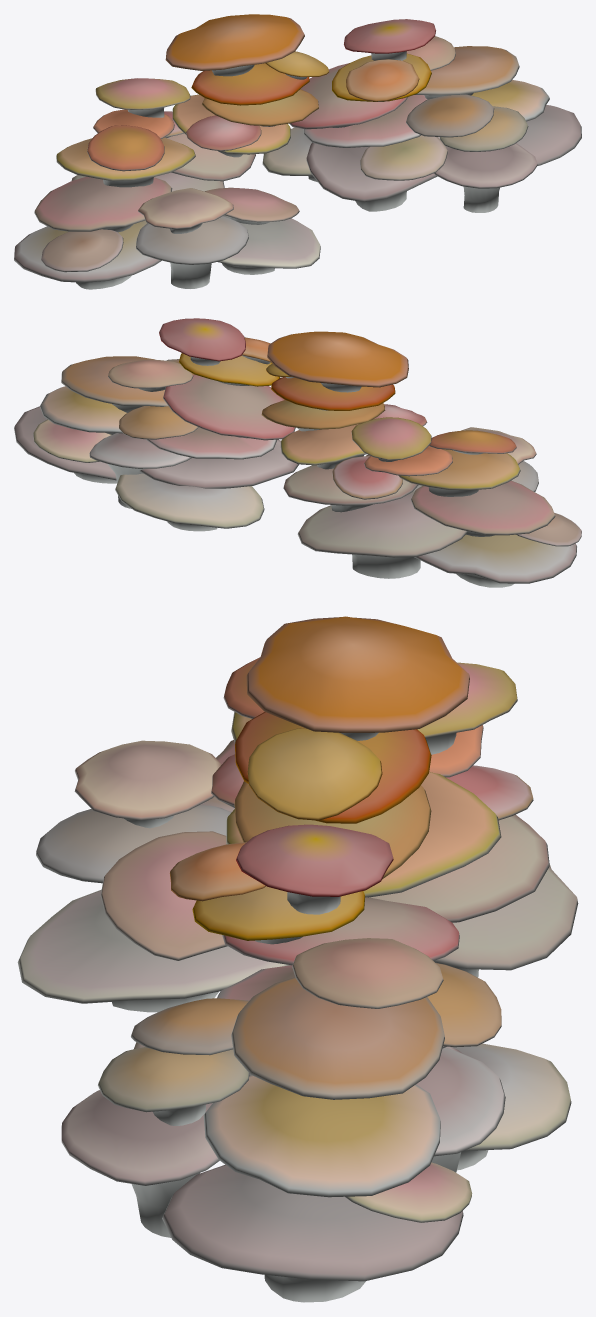
3 renders of one model, top to bottom at view 1: azimuth 30°, elevation 25°; view 2: azimuth 150°, elevation 25°; view 3: azimuth 270°, elevation 25°, orthographic. The views are drawn at different scales.
Parts seen in each view (by area): view 1: G:\FFXIV-MapTools\exports\e3f1\bg\ex2\02_est_e3\fld\e3f1\bgp (×4); view 2: G:\FFXIV-MapTools\exports\e3f1\bg\ex2\02_est_e3\fld\e3f1\bgp (×4); view 3: G:\FFXIV-MapTools\exports\e3f1\bg\ex2\02_est_e3\fld\e3f1\bgp (×4).
Part boxes in pixels (x1=…): G:\FFXIV-MapTools\exports\e3f1\bg\ex2\02_est_e3\fld\e3f1\bgp (×4): x1=14, y1=14, x2=581, y2=289; G:\FFXIV-MapTools\exports\e3f1\bg\ex2\02_est_e3\fld\e3f1\bgp (×4): x1=14, y1=318, x2=581, y2=587; G:\FFXIV-MapTools\exports\e3f1\bg\ex2\02_est_e3\fld\e3f1\bgp (×4): x1=17, y1=616, x2=578, y2=1302.
Bounding box in the file's own units: 68.47 × 24.82 × 30.39.
